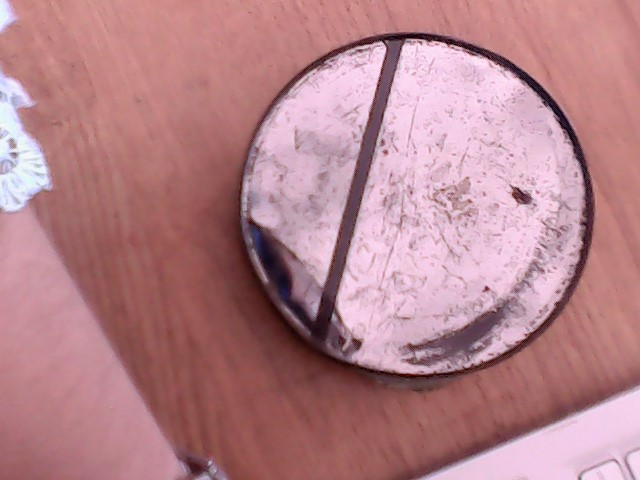Metal: (198, 32, 622, 405)
